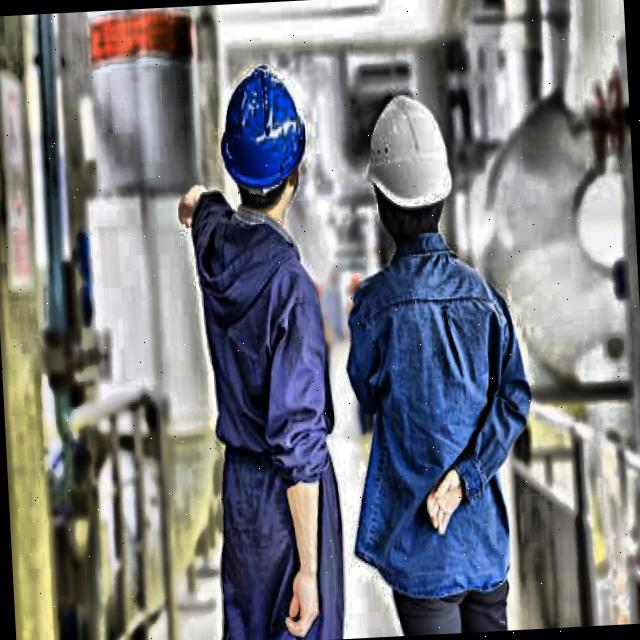helmet: (200, 52, 325, 252), (358, 79, 468, 257)
